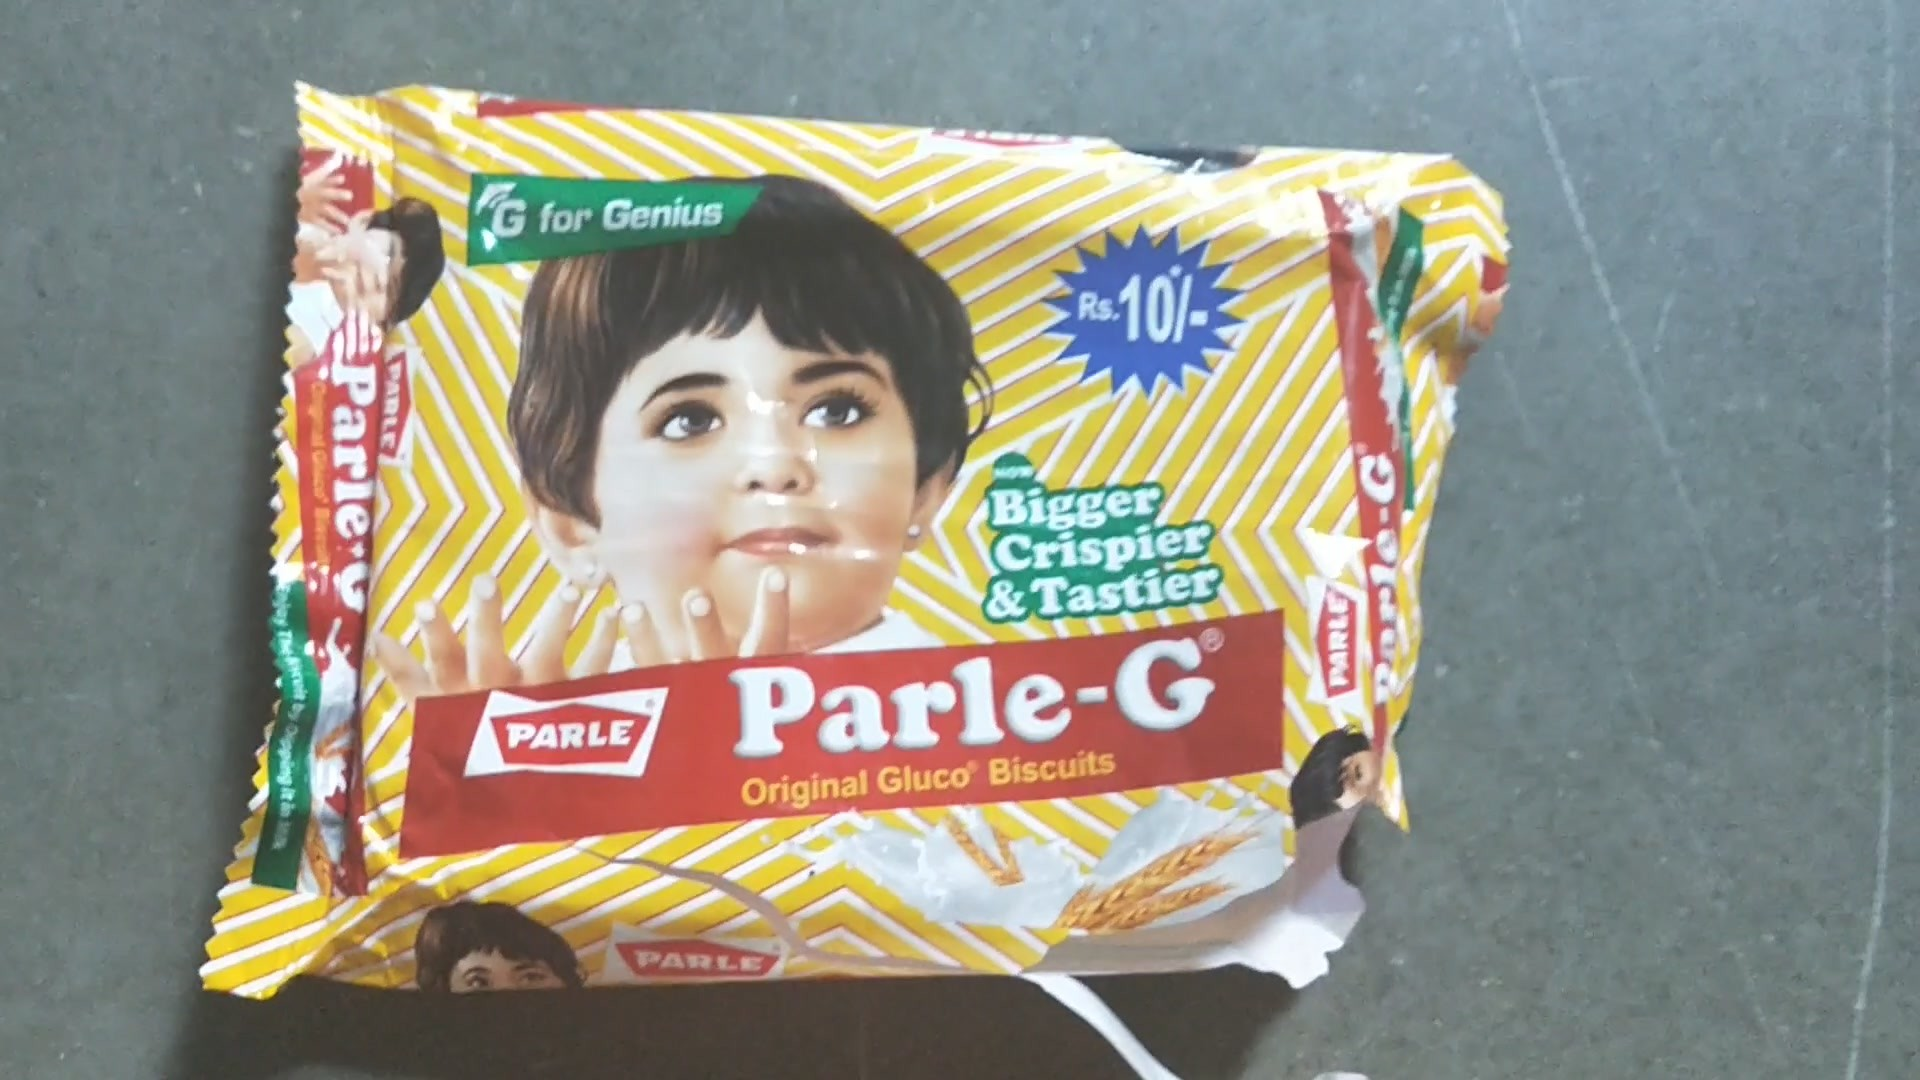parle-g: (343, 160, 1337, 955)
